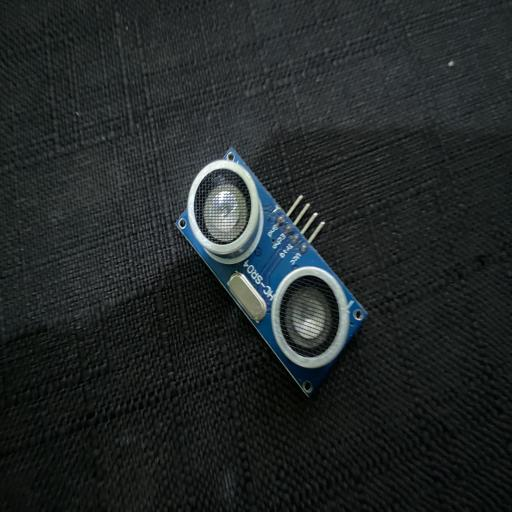Ultrasonic Sensor: (174, 144, 368, 400)
